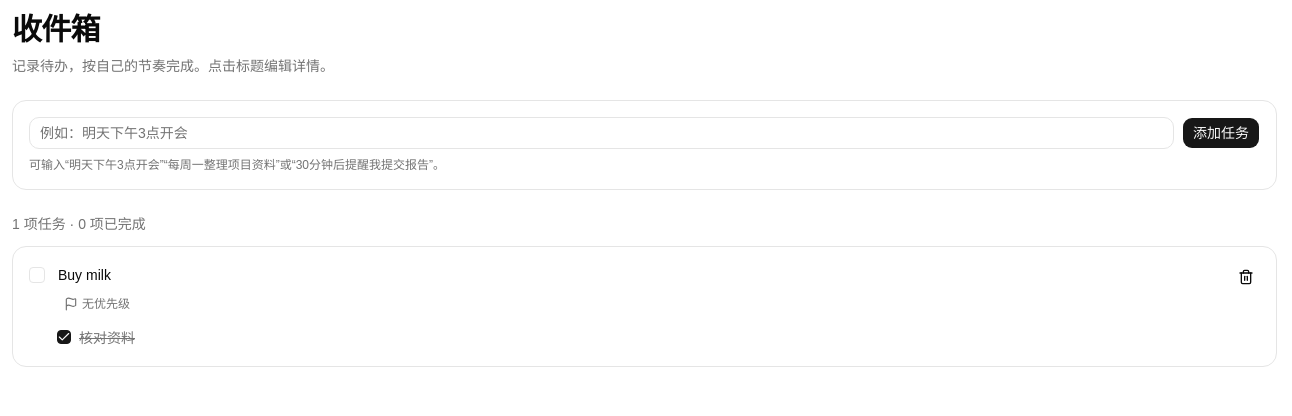
Scenario: retains subtask state and body after a failed card toggle
This screenshot has width=1292, height=416.
Click the checkbox named "取消完成子任务：核对资料" at point(64, 337), box top-left (57, 330), bottom-right (71, 344)
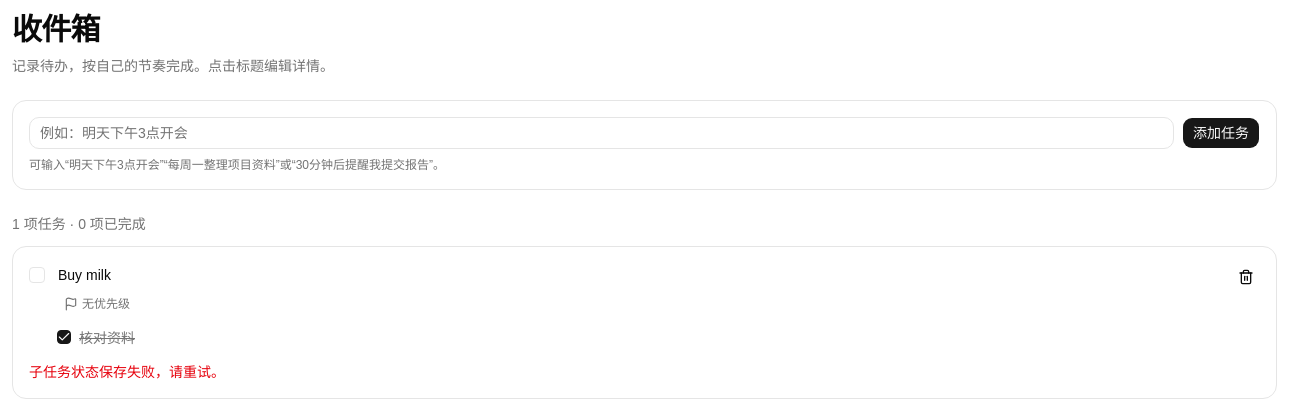
Result: the text "子任务状态保存失败，请重试。" is shown at top-left (29, 364), bottom-right (225, 380)
